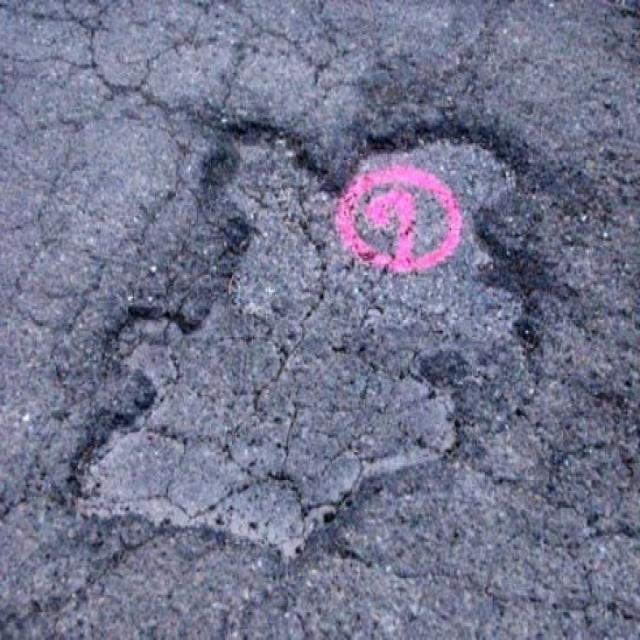pothole: (60, 95, 562, 575)
